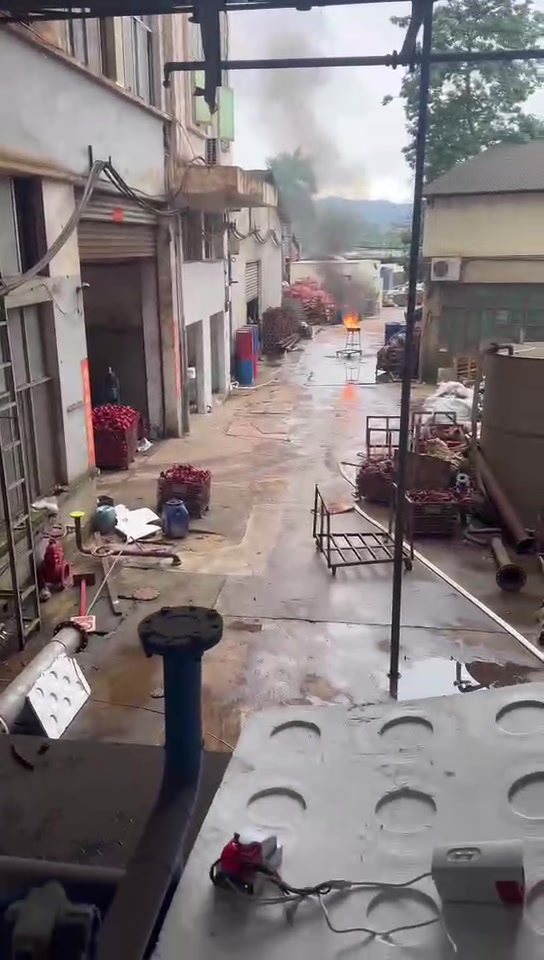fire: (341, 311, 360, 329)
